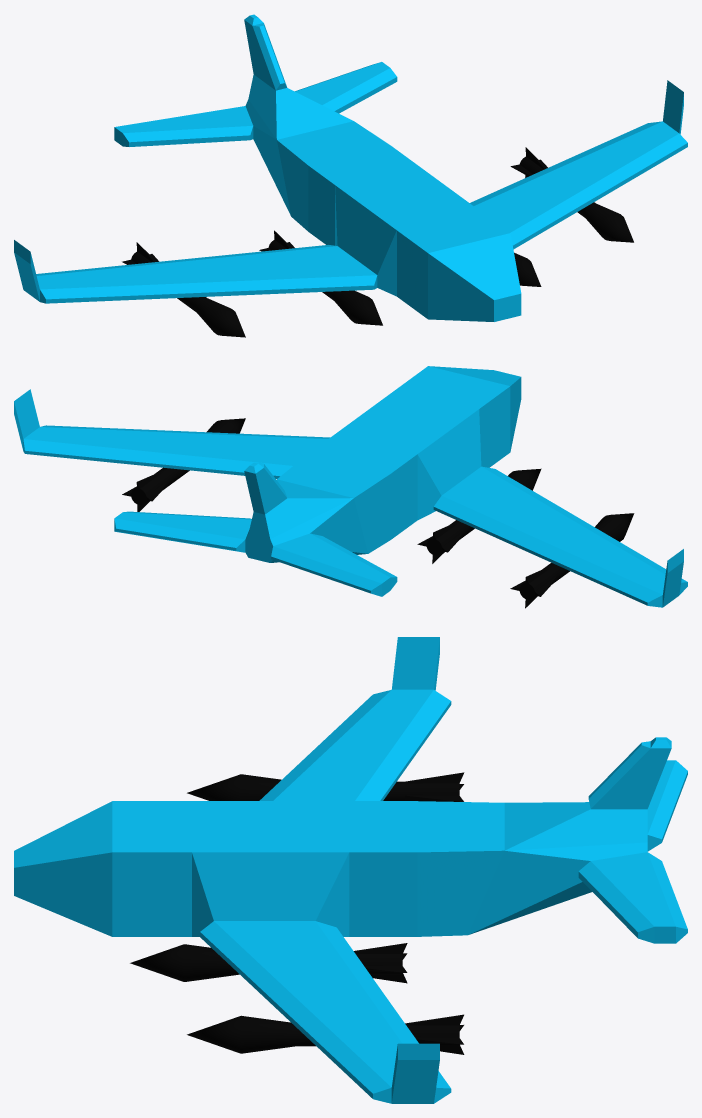
The picture shows the model from 3 angles, top to bottom: view 1: azimuth 30°, elevation 25°; view 2: azimuth 150°, elevation 25°; view 3: azimuth 270°, elevation 25°; orthographic projection. The views are drawn at different scales.
Visible parts, largest first — view 1: plane, missile4, missile2, missile3, missile1; view 2: plane, missile4, missile2, missile3; view 3: plane, missile2, missile1, missile4.
Part boxes in pixels (x1,y1,x2,y2): plane: [14, 14, 687, 321]; missile4: [122, 242, 245, 337]; missile2: [510, 147, 633, 242]; missile3: [259, 230, 382, 325]; missile1: [514, 252, 541, 286]; plane: [14, 366, 687, 607]; missile4: [510, 513, 634, 608]; missile2: [122, 418, 245, 511]; missile3: [417, 468, 541, 563]; plane: [14, 637, 687, 1103]; missile2: [187, 1014, 464, 1054]; missile1: [130, 943, 407, 983]; missile4: [187, 772, 464, 801].
Size of the model in its own units: 327 by 73.38 by 229.
